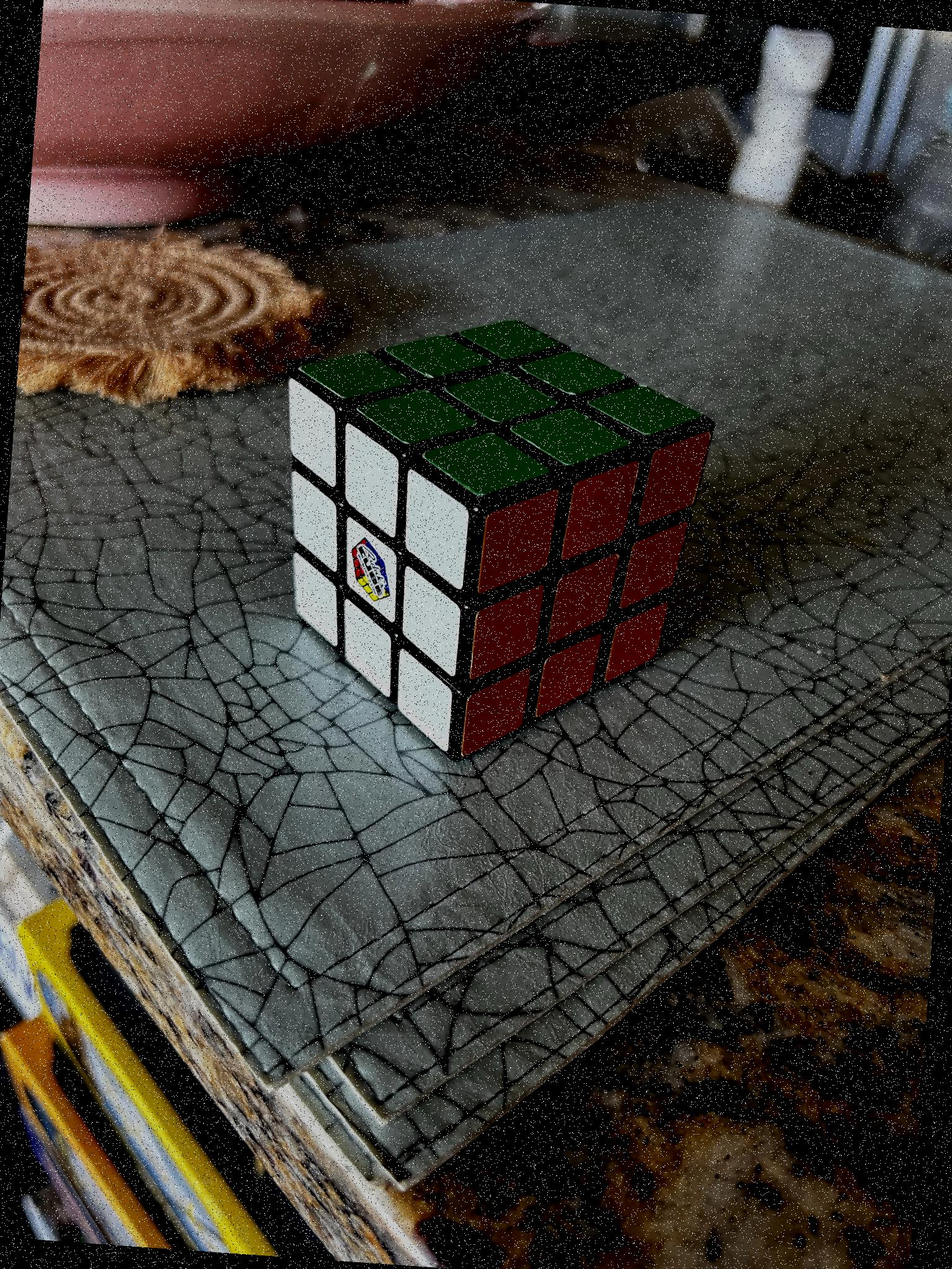rubiks_cube: (287, 321, 711, 756)
